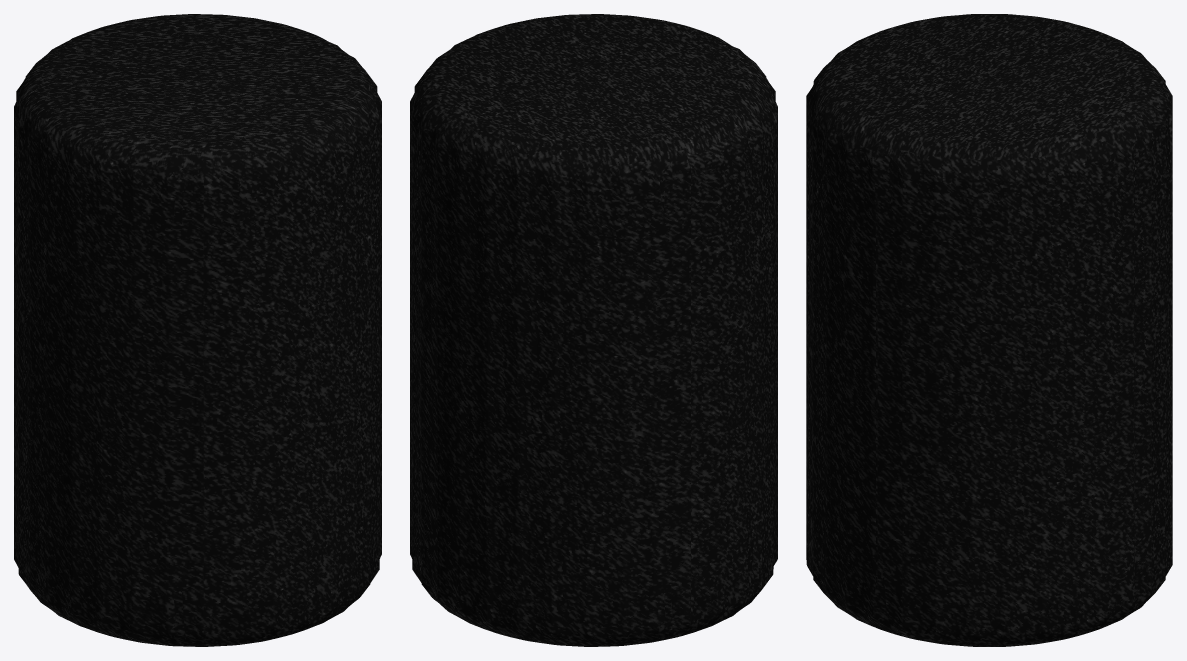
File: lakritzblock.fbx
3 views of the same model, side by side, from view 1: azimuth 30°, elevation 25°; view 2: azimuth 150°, elevation 25°; view 3: azimuth 270°, elevation 25° (orthographic).
Visible parts, largest first — view 1: Cylinder; view 2: Cylinder; view 3: Cylinder.
Boxes of the visible parts, x1,y1,x2,y2 form: Cylinder: (14, 14, 381, 646); Cylinder: (410, 14, 777, 646); Cylinder: (806, 14, 1172, 646).
Size of the model in its own units: 0.9904 by 1.5 by 0.9904.
1 material, 1 textured.
